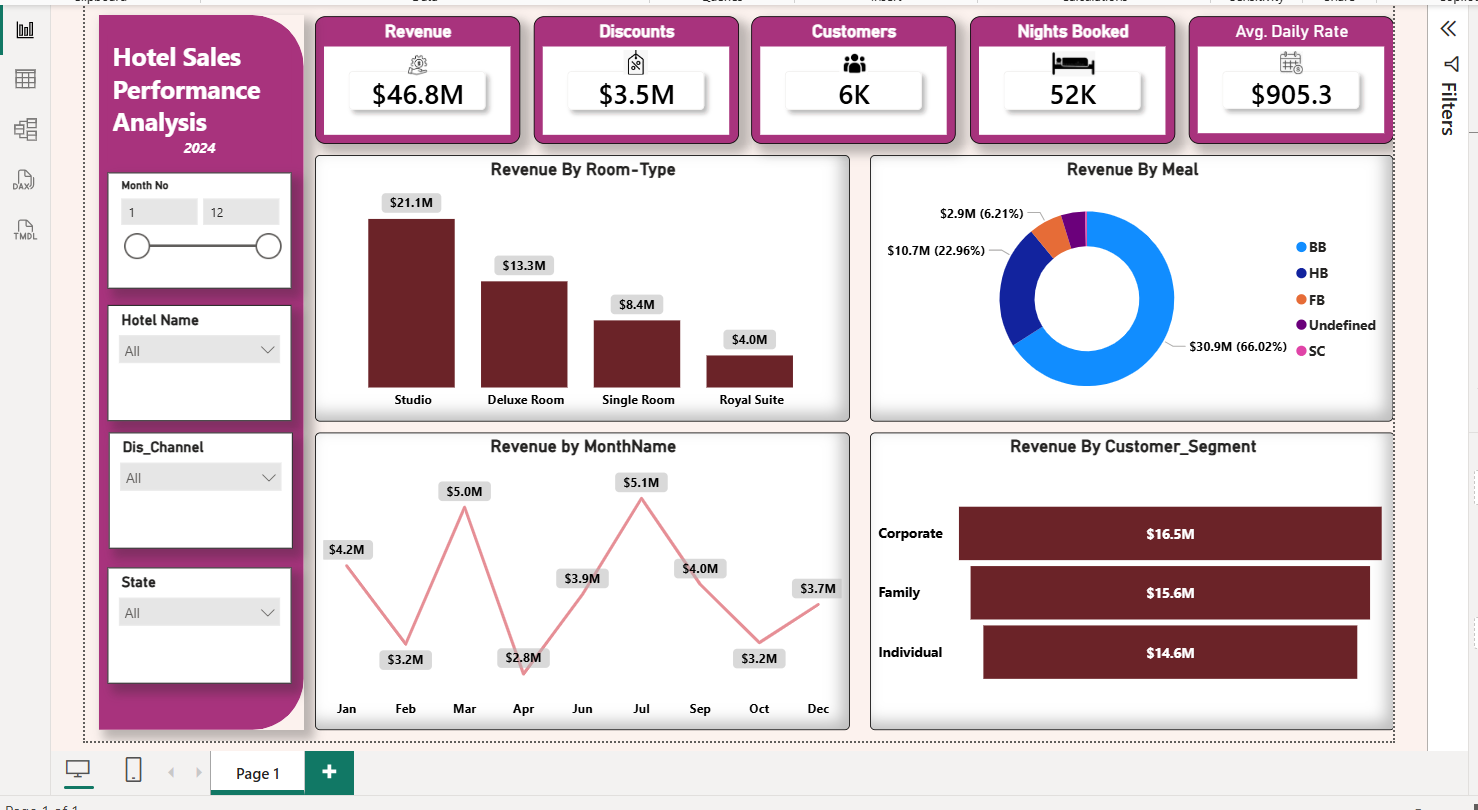

The dashboard page shown, as its layout file describes it:
{"tool":"powerbi","page":{"name":"Page 1","canvas":[1280,720],"ordinal":0},"visuals":[{"type":"cardVisual","title":"Revenue","fields":{"Data":["Hotel Sales Dataset.Total Sales"]},"box":[225,11,200.5,125],"z":0},{"type":"cardVisual","title":"Discounts","fields":{"Data":["Hotel Sales Dataset.Total Discount"]},"box":[438.4,11,200.5,125],"z":1000},{"type":"cardVisual","title":"Nights Booked","fields":{"Data":["Hotel Sales Dataset.Total Room Nights"]},"box":[866.4,11,200.5,125],"z":2000},{"type":"cardVisual","title":"Avg. Daily Rate","fields":{"Data":["Hotel Sales Dataset.Avg. Daily Rate"]},"box":[1079.8,11,200.5,124.7],"z":3000},{"type":"shape","box":[13.5,9.8,200.5,699.5],"z":4000},{"type":"donutChart","title":"Revenue By Meal","fields":{"Category":["Hotel Sales Dataset.meal"],"Y":["Hotel Sales Dataset.Total Sales"]},"box":[767.9,146.7,512.4,260.5],"z":5000},{"type":"columnChart","title":"Revenue By Room-Type","fields":{"Y":["Hotel Sales Dataset.Total Sales"],"Category":["Hotel Sales Dataset.room-type"]},"box":[225,146.7,523.4,260.5],"z":6000},{"type":"cardVisual","title":"Customers","fields":{"Data":["Hotel Sales Dataset.Total Customers"]},"box":[651.8,11,200,125],"z":7000},{"type":"funnel","title":"Revenue By Customer_Segment","fields":{"Category":["Hotel Sales Dataset.cus_seg"],"Y":["Hotel Sales Dataset.Total Sales"]},"box":[767.9,418.2,513.6,291],"z":8000},{"type":"lineChart","title":"Revenue by MonthName","fields":{"Category":["DateTable.MonthName"],"Y":["Hotel Sales Dataset.Total Sales"]},"box":[225,418.2,523.4,291],"z":9000},{"type":"textbox","box":[22,29.3,179.8,126],"z":10000},{"type":"slicer","fields":{"Values":["DateTable.MonthNo"]},"box":[22,163.9,179.8,113.7],"z":11000},{"type":"slicer","fields":{"Values":["Hotel Sales Dataset.hotel_name"]},"box":[22,293.5,179.8,113.7],"z":12000},{"type":"slicer","fields":{"Values":["Hotel Sales Dataset.dis_channel"]},"box":[23.2,418.2,179.8,113.7],"z":13000},{"type":"slicer","fields":{"Values":["Hotel Sales Dataset.state"]},"box":[22,550.3,179.8,113.7],"z":14000},{"type":"image","box":[272.5,43.8,105,25],"z":15000},{"type":"image","box":[704.4,45.2,95.4,23.2],"z":16000},{"type":"image","box":[937.9,45.2,57.5,24.5],"z":17000},{"type":"image","box":[1130,45,101.2,22.5],"z":18000},{"type":"image","box":[512.5,43.8,52.5,23.8],"z":19000}]}

Visuals, with their boxes on the page's 1280x720 design canvas (x1, y1, x2, y2). These are canvas units, not pixel positions in the 1478x810 screenshot, which may show the page scaled, cropped or inside an application window:
"Revenue" cardVisual: detection(225, 11, 426, 136)
"Discounts" cardVisual: detection(438, 11, 639, 136)
"Nights Booked" cardVisual: detection(866, 11, 1067, 136)
"Avg. Daily Rate" cardVisual: detection(1080, 11, 1280, 136)
shape: detection(14, 10, 214, 709)
"Revenue By Meal" donutChart: detection(768, 147, 1280, 407)
"Revenue By Room-Type" columnChart: detection(225, 147, 748, 407)
"Customers" cardVisual: detection(652, 11, 852, 136)
"Revenue By Customer_Segment" funnel: detection(768, 418, 1282, 709)
"Revenue by MonthName" lineChart: detection(225, 418, 748, 709)
textbox: detection(22, 29, 202, 155)
slicer - DateTable.MonthNo: detection(22, 164, 202, 278)
slicer - Hotel Sales Dataset.hotel_name: detection(22, 294, 202, 407)
slicer - Hotel Sales Dataset.dis_channel: detection(23, 418, 203, 532)
slicer - Hotel Sales Dataset.state: detection(22, 550, 202, 664)
image: detection(272, 44, 378, 69)
image: detection(704, 45, 800, 68)
image: detection(938, 45, 995, 70)
image: detection(1130, 45, 1231, 68)
image: detection(512, 44, 565, 68)
